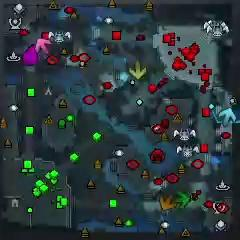p3: (23, 44, 38, 66)
x1: (35, 38, 52, 54)
x2: (128, 61, 147, 78)
x3: (219, 107, 236, 128)
x4: (174, 191, 192, 209)
x5: (159, 193, 175, 211)
